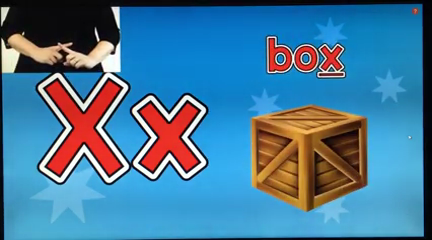X: (36, 37, 95, 70)
